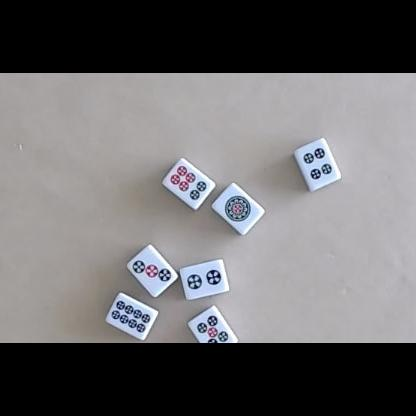1p: (225, 194, 252, 222)
2p: (186, 269, 221, 290)
3p: (132, 259, 172, 282)
4p: (303, 147, 333, 181)
5p: (196, 315, 229, 343)
6p: (170, 165, 208, 201)
8p: (111, 300, 150, 333)
